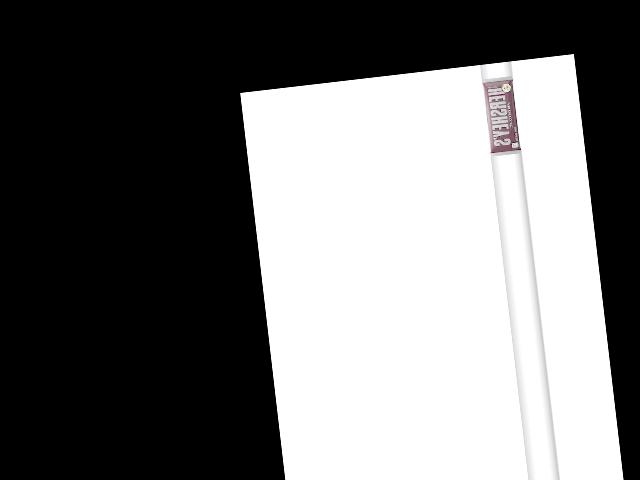chocolate: (483, 77, 525, 156)
